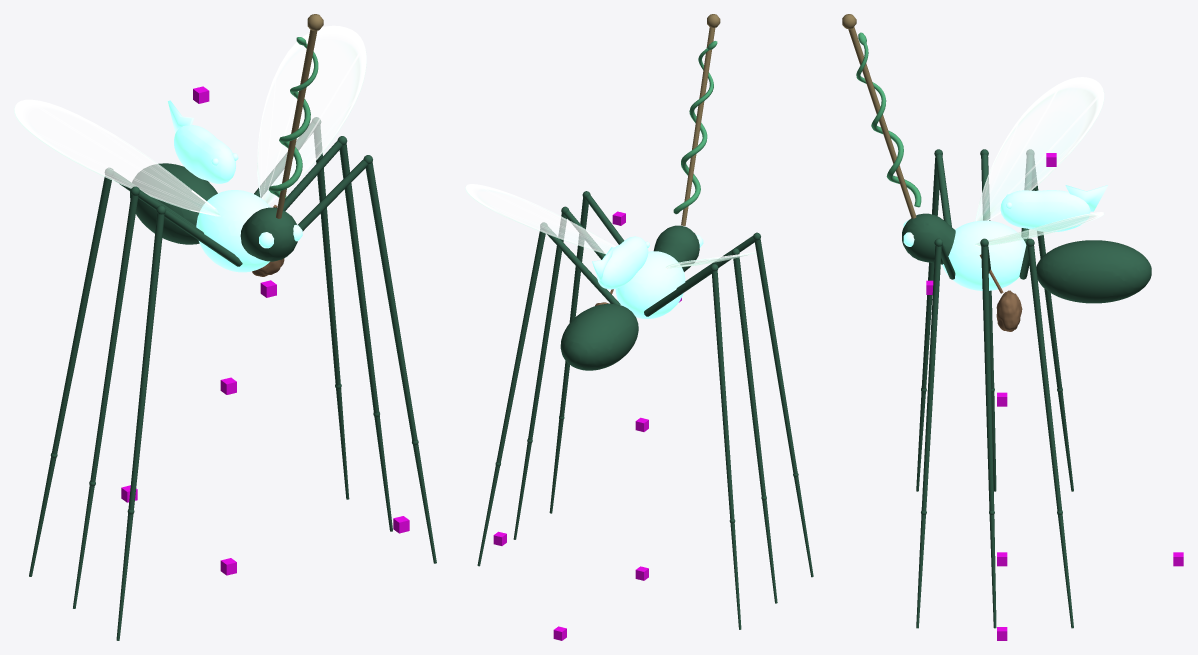
The model's file is 06_dottor_smeraldo_raffaele.glb.
3 views of the same model, side by side, from view 1: azimuth 30°, elevation 25°; view 2: azimuth 150°, elevation 25°; view 3: azimuth 270°, elevation 25° (orthographic). The views are drawn at different scales.
Parts seen in each view (by area): view 1: Raffaele__Chitina, Raffaele__Ali_Verdi, Raffaele__Torace_Smeraldo, Raffaele__Sacca_Pesce, Raffaele__Bastone, Raffaele__Serpentello; view 2: Raffaele__Chitina, Raffaele__Ali_Verdi, Raffaele__Torace_Smeraldo, Raffaele__Sacca_Pesce, Raffaele__Bastone, Raffaele__Serpentello; view 3: Raffaele__Chitina, Raffaele__Ali_Verdi, Raffaele__Torace_Smeraldo, Raffaele__Sacca_Pesce, Raffaele__Bastone, Raffaele__Serpentello, Raffaele__Bisaccia.
Part boxes in pixels (x1,y1,x2,y2): Raffaele__Chitina: (29,117,436,640); Raffaele__Ali_Verdi: (14,25,366,216); Raffaele__Torace_Smeraldo: (196,190,270,272); Raffaele__Sacca_Pesce: (168,100,235,183); Raffaele__Bastone: (276,14,323,218); Raffaele__Serpentello: (268,37,318,197); Raffaele__Chitina: (477,191,813,629); Raffaele__Ali_Verdi: (465,184,755,269); Raffaele__Torace_Smeraldo: (615,251,685,318); Raffaele__Sacca_Pesce: (592,236,648,289); Raffaele__Bastone: (681,14,720,225); Raffaele__Serpentello: (673,41,717,214); Raffaele__Chitina: (902,149,1151,628); Raffaele__Ali_Verdi: (975,77,1104,246); Raffaele__Torace_Smeraldo: (942,220,1026,290); Raffaele__Sacca_Pesce: (1000,185,1107,232); Raffaele__Bastone: (842,14,916,218); Raffaele__Serpentello: (856,32,921,207); Raffaele__Bisaccia: (979,254,1022,331).
Size of the model in its own units: 3.03 by 5.16 by 2.91.
Materials: 10 (1 with a texture image).
